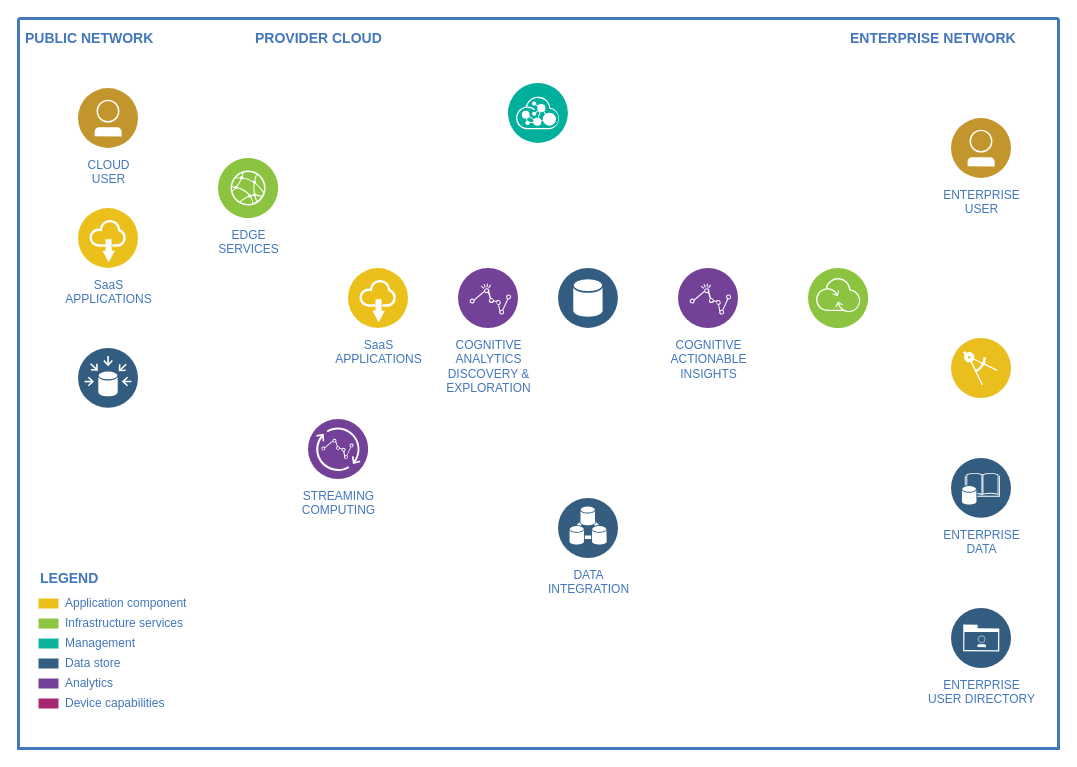
This 1077x767 diagram has some shape labels left out. The shapes that lost their labels are listed below. From the top down, each one's box as (x1, y1, x2, y2) in pixels, then its label:
(508, 83, 568, 143): API MANAGEMENT
(558, 268, 618, 328): DATA REPOSITORY
(808, 268, 868, 328): TRANSFORMATION & CONNECTIVITY
(78, 348, 138, 408): INTERNAL CHANNEL
(951, 338, 1011, 398): ENTERPRISE APPLICATIONS
